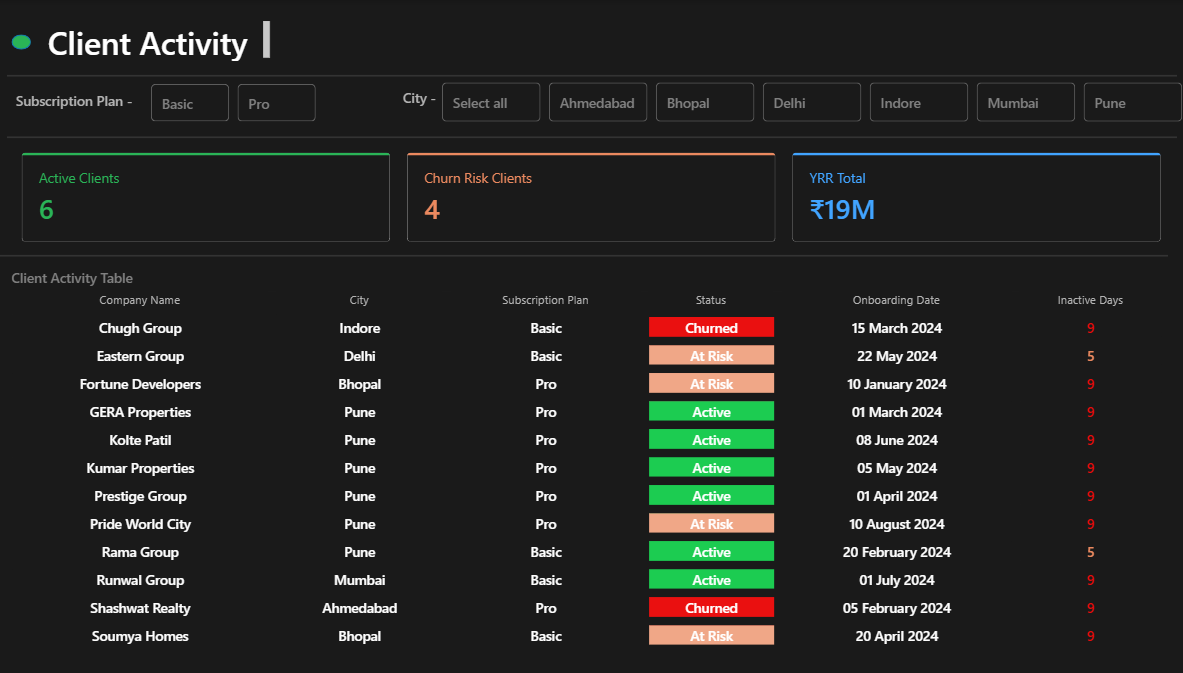

This screenshot's page, from the dashboard's own definition file:
{"tool":"powerbi","page":{"name":"Client Activity","canvas":[1400,800],"ordinal":1},"visuals":[{"type":"cardVisual","fields":{"Data":["All Measures.Active Clients","All Measures.Churn Risk Clients","All Measures.MRR Total"]},"box":[10.6,162.6,1378.5,139.6],"z":0},{"type":"textbox","box":[15.9,102.5,171.4,37.1],"z":1000},{"type":"shape","box":[10.6,136.1,1378.5,51.3],"z":2000},{"type":"shape","box":[10.6,58.3,1378.5,61.9],"z":3000},{"type":"shape","box":[0,263.3,1378.5,76],"z":4000},{"type":"advancedSlicerVisual","fields":{"Values":["clients.city"]},"box":[518,92,882,56],"z":5000},{"type":"textbox","box":[471.9,99,90.1,37.1],"z":6000},{"type":"shape","box":[15.9,40.6,23,17.7],"z":7000},{"type":"textbox","box":[53,19.4,272.2,56.6],"z":8000},{"type":"advancedSlicerVisual","fields":{"Values":["clients.subscription_plan"]},"box":[175,93.7,205,54.8],"z":9000},{"type":"tableEx","title":"Client Activity Table","fields":{"Values":["clients.company_name","clients.city","clients.subscription_plan","clients.status","clients.onboarding_date","All Measures.Days Silent"]},"box":[10.6,316.4,1367.9,484.3],"z":10000}]}

Visuals, with their boxes in screenshot pixels (x1, y1, x2, y2), scaled from the page's 1400x800 canvas onto the 1183x673 screenshot:
cardVisual - All Measures.Active Clients x All Measures.Churn Risk Clients: region(9, 137, 1174, 254)
textbox: region(13, 86, 158, 117)
shape: region(9, 114, 1174, 158)
shape: region(9, 49, 1174, 101)
shape: region(0, 222, 1165, 285)
advancedSlicerVisual - clients.city: region(438, 77, 1182, 125)
textbox: region(399, 83, 475, 114)
shape: region(13, 34, 33, 49)
textbox: region(45, 16, 275, 64)
advancedSlicerVisual - clients.subscription_plan: region(148, 79, 321, 125)
"Client Activity Table" tableEx: region(9, 266, 1165, 672)
